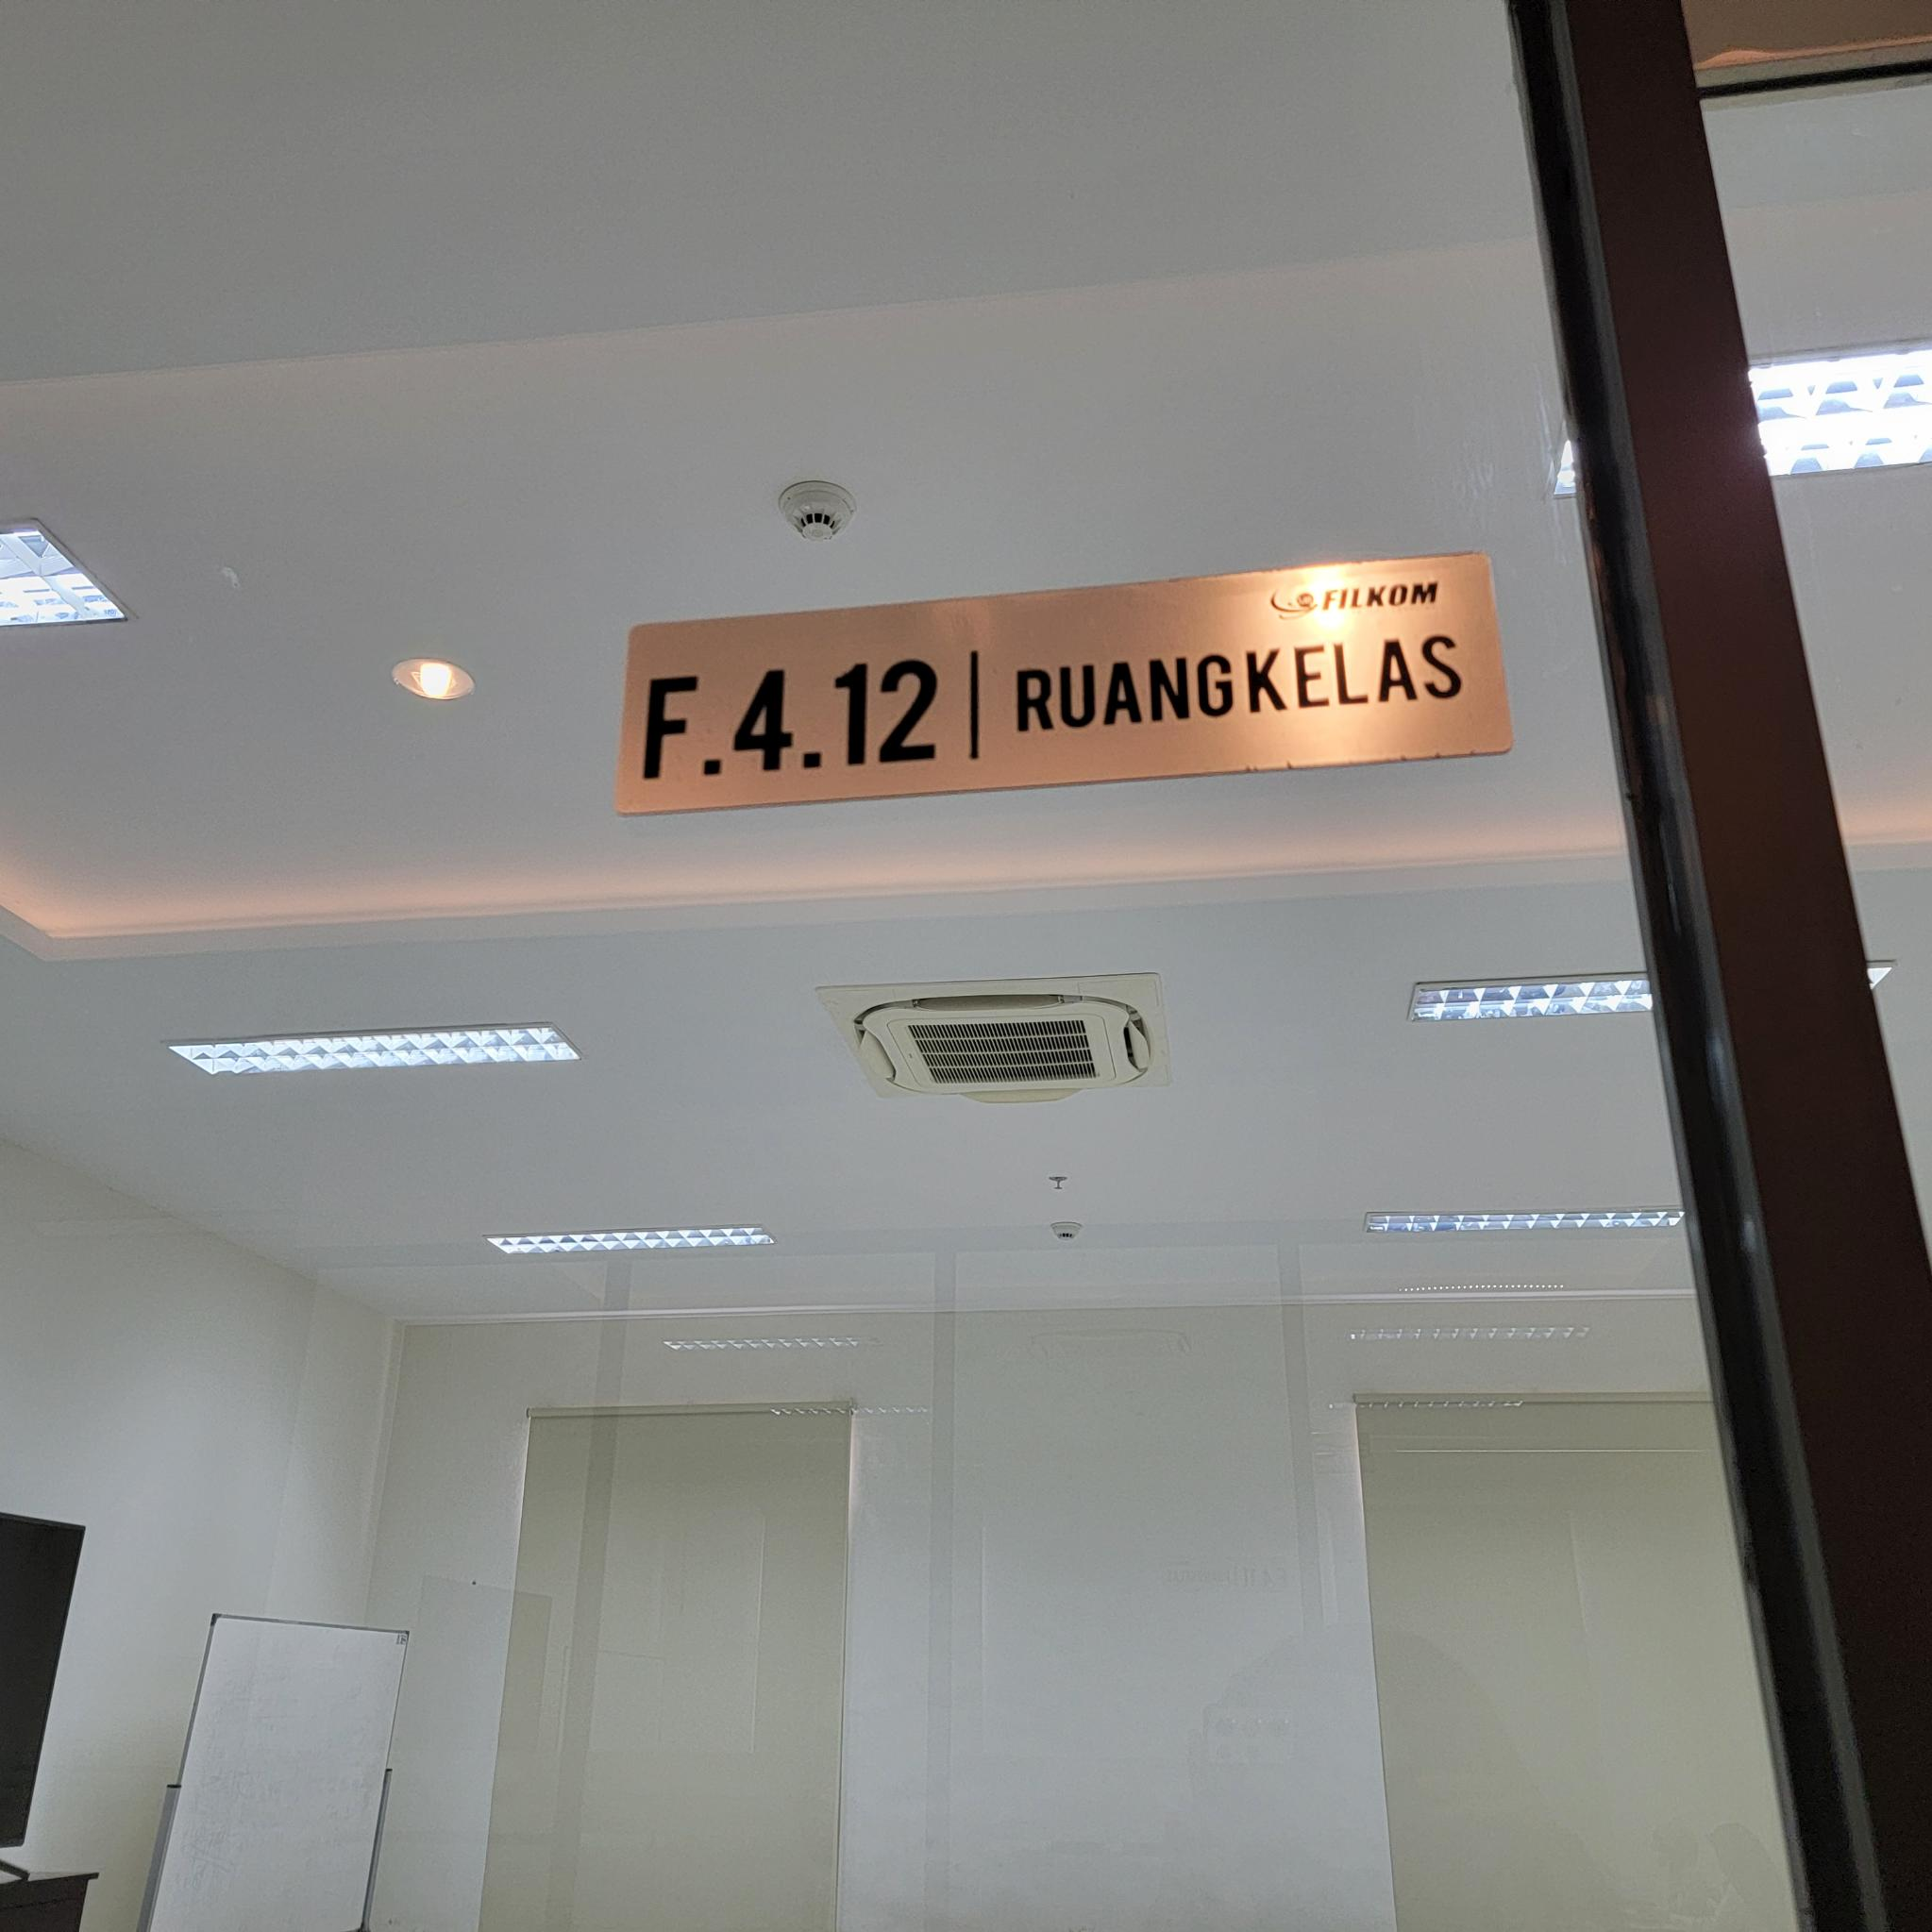plate: (617, 548, 1518, 819)
